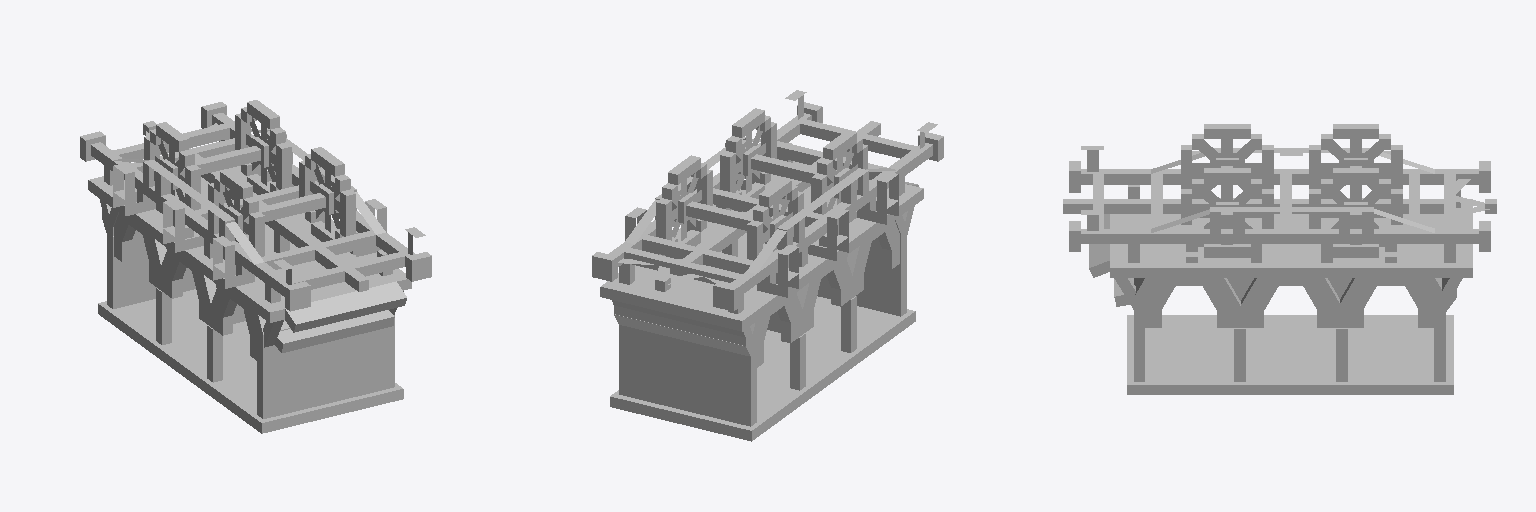
Rendered from ModelPassengerAdler.obj.
3 views of the same model, side by side, from view 1: azimuth 30°, elevation 25°; view 2: azimuth 150°, elevation 25°; view 3: azimuth 270°, elevation 25° (orthographic).
Parts seen in each view (by area): view 1: Shape207, Shape170, Shape106, Shape121, Shape172, Shape79, Shape206, Shape86, Shape82, Shape83, Shape80, Shape85 (+21 smaller); view 2: Shape207, Shape172, Shape106, Shape170, Shape79, Shape84, Shape85, Shape83, Shape204, Shape86, Shape205, Shape80 (+22 smaller); view 3: Shape207, Shape106, Shape80, Shape79, Shape86, Shape172, Shape184, Shape170, Shape183, Shape177, Shape176, Shape3 (+20 smaller).
Part boxes in pixels (bbox=[...]): Shape207: bbox=[98, 289, 403, 433]; Shape170: bbox=[257, 315, 394, 418]; Shape106: bbox=[88, 166, 411, 322]; Shape121: bbox=[285, 281, 406, 332]; Shape172: bbox=[107, 223, 195, 308]; Shape79: bbox=[91, 142, 293, 296]; Shape206: bbox=[274, 310, 394, 352]; Shape86: bbox=[175, 148, 368, 291]; Shape82: bbox=[261, 231, 375, 269]; Shape83: bbox=[292, 252, 404, 289]; Shape80: bbox=[212, 113, 414, 266]; Shape85: bbox=[113, 124, 229, 162]; Shape207: bbox=[610, 296, 915, 441]; Shape172: bbox=[619, 325, 756, 426]; Shape106: bbox=[600, 161, 923, 331]; Shape170: bbox=[817, 228, 906, 316]; Shape79: bbox=[730, 143, 932, 296]; Shape84: bbox=[642, 235, 753, 273]; Shape85: bbox=[624, 248, 740, 284]; Shape83: bbox=[800, 119, 916, 158]; Shape204: bbox=[614, 314, 756, 357]; Shape86: bbox=[680, 121, 880, 264]; Shape205: bbox=[614, 306, 749, 346]; Shape80: bbox=[609, 113, 811, 266]; Shape207: bbox=[1127, 315, 1453, 394]; Shape106: bbox=[1110, 199, 1472, 277]; Shape80: bbox=[1081, 229, 1478, 243]; Shape79: bbox=[1081, 169, 1478, 184]; Shape86: bbox=[1063, 199, 1443, 213]; Shape172: bbox=[1434, 297, 1445, 381]; Shape184: bbox=[1338, 278, 1379, 317]; Shape170: bbox=[1134, 297, 1144, 381]; Shape183: bbox=[1240, 278, 1281, 317]; Shape177: bbox=[1300, 278, 1341, 316]; Shape176: bbox=[1203, 278, 1240, 316]; Shape3: bbox=[1204, 168, 1250, 183].
Size of the model in its own units: 1 by 1.27 by 2.31.